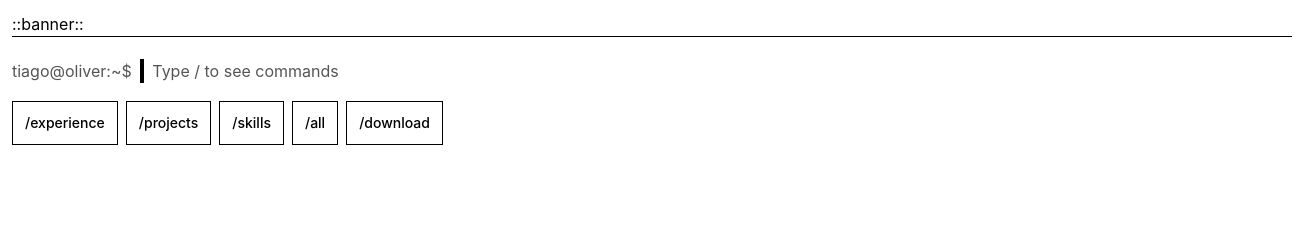
Scenario: Terminal › Given the lang suggestion, should wait for the language and then load that page in full
The image size is (1304, 242).
Type "/la" into the dropdown named "Command" at (716, 71), box [140,49,1292,93]
Then press Enter
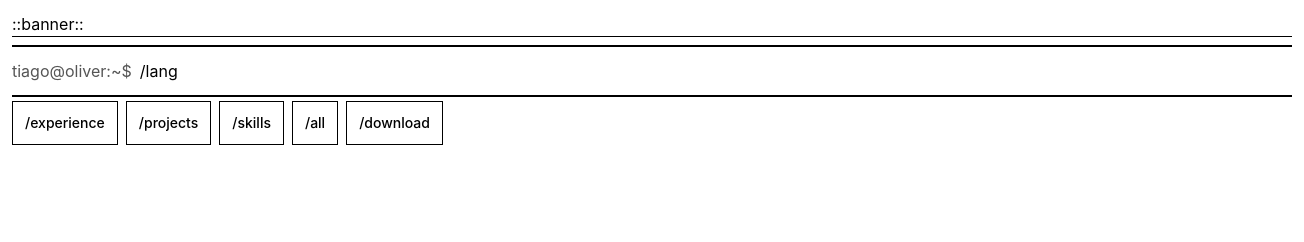
Check: the dropdown named "Command" holds "/lang "
Type "es" into the dropdown named "Command" at (716, 71), box [140,49,1292,93]
Then press Enter
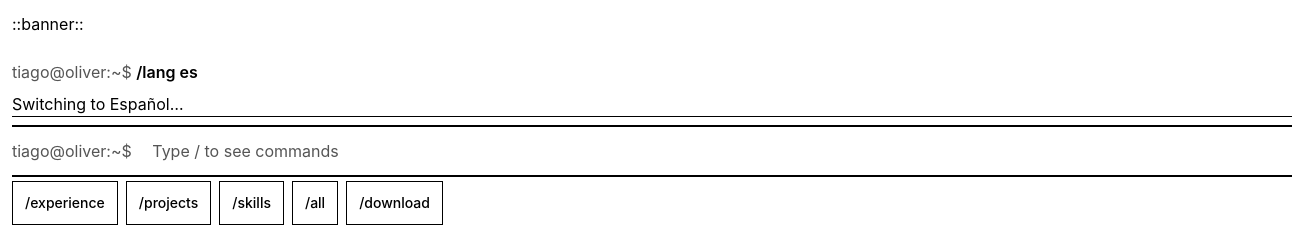
Check: the text "Switching to Español…" is shown, box [12,94,184,114]
